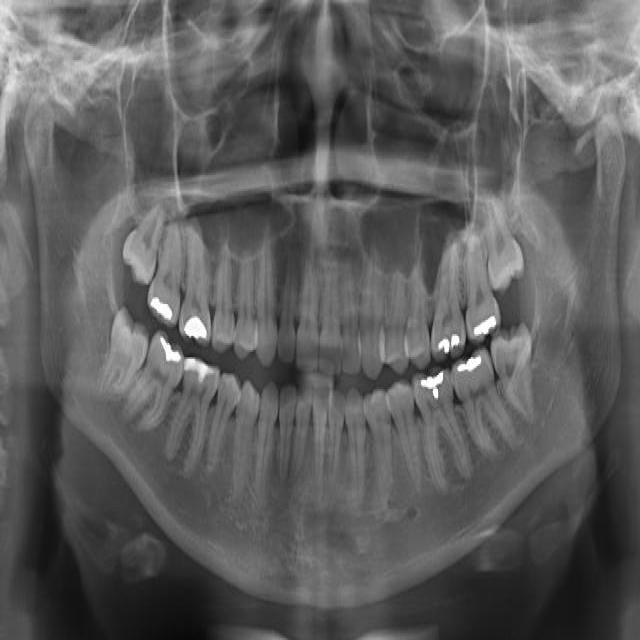dolgu: (148, 286, 178, 337), (452, 351, 492, 389), (414, 355, 447, 401), (432, 317, 466, 361), (185, 352, 221, 393), (151, 333, 185, 375), (465, 302, 502, 338), (183, 310, 209, 350)
